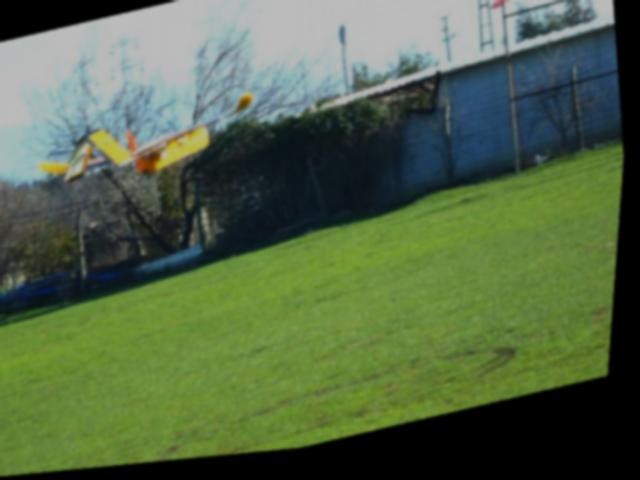iha: (24, 88, 278, 203)
